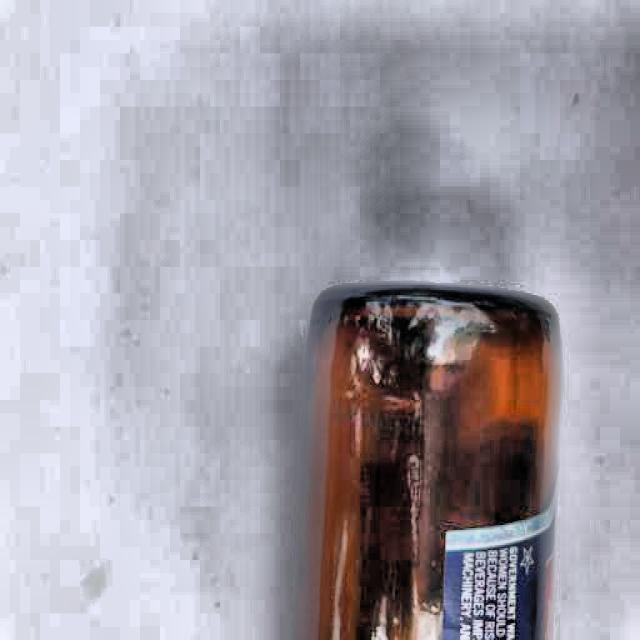glass: (302, 285, 561, 640)
